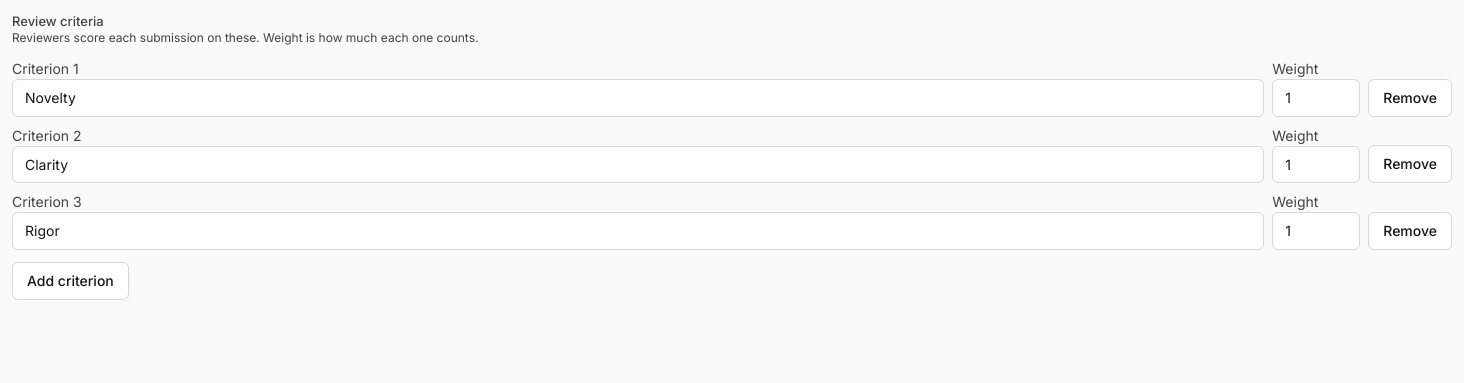
K-7 — CfpRubricEditor › adds and removes rows; the last row cannot be removed
The width and height of the screenshot is (1464, 383).
Click the button "Add criterion". click: [70, 281]
box: [12,262,129,300]
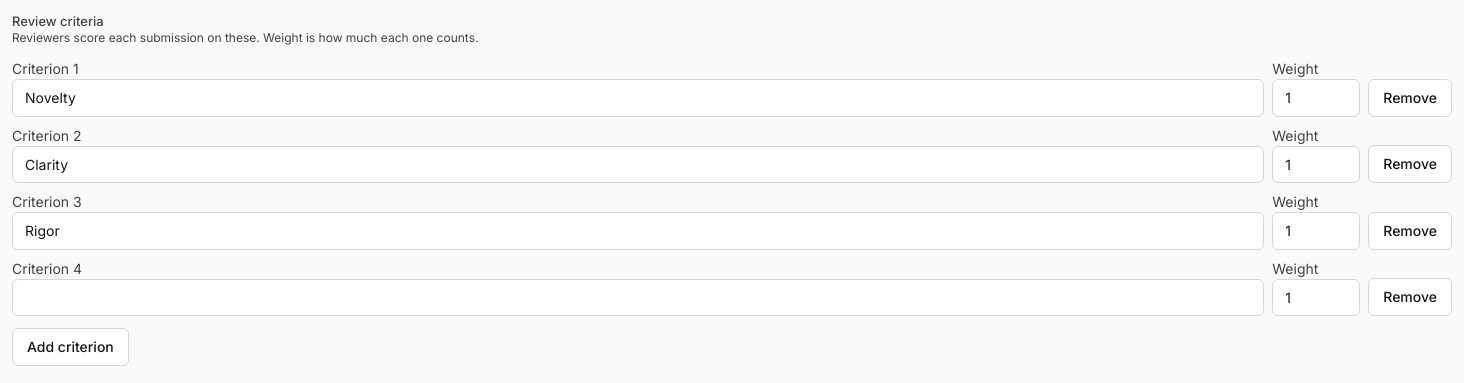
Now the number of list items with class "cfp-rubric-row" is 4, box [12,58,1452,117]; [12,125,1452,183]; [12,191,1452,250]; [12,258,1452,316]
Click the 4th button "Remove". click: [1410, 297]
box: [1368,278,1452,316]
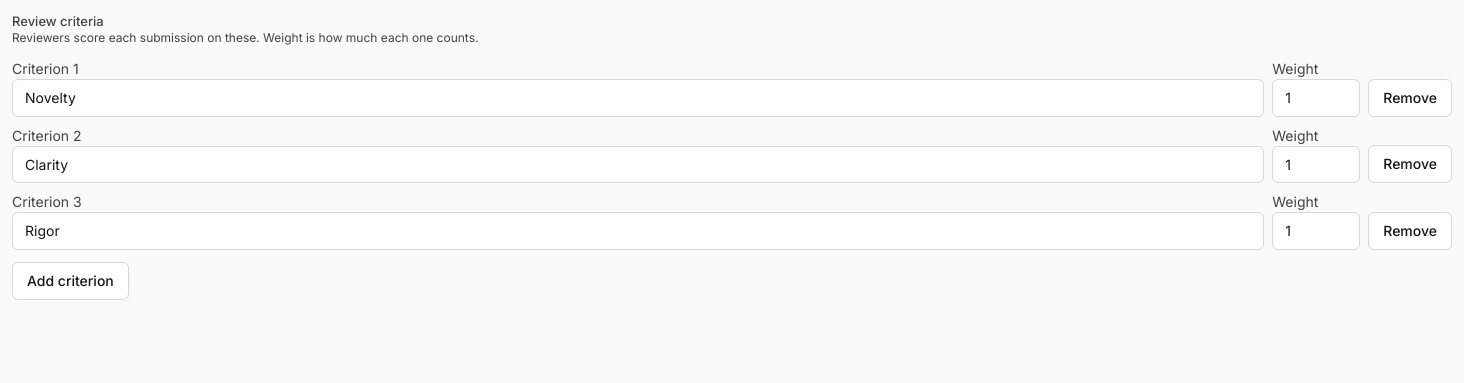
Now the number of list items with class "cfp-rubric-row" is 3, box [12,58,1452,117]; [12,125,1452,183]; [12,191,1452,250]
Click the 3rd button "Remove". click: [1410, 231]
box: [1368,212,1452,250]
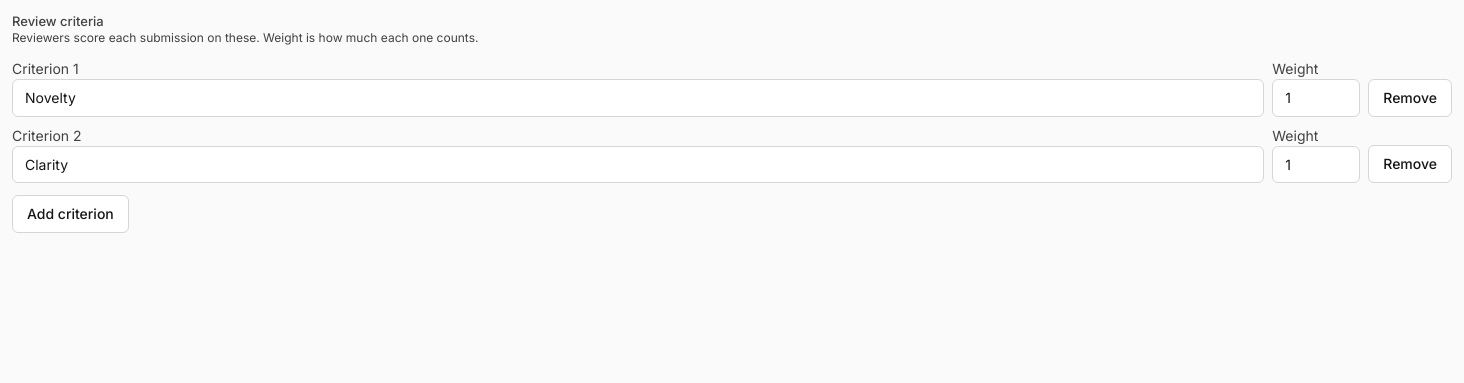
Click the 2nd button "Remove". click: [1410, 164]
box: [1368,145,1452,183]
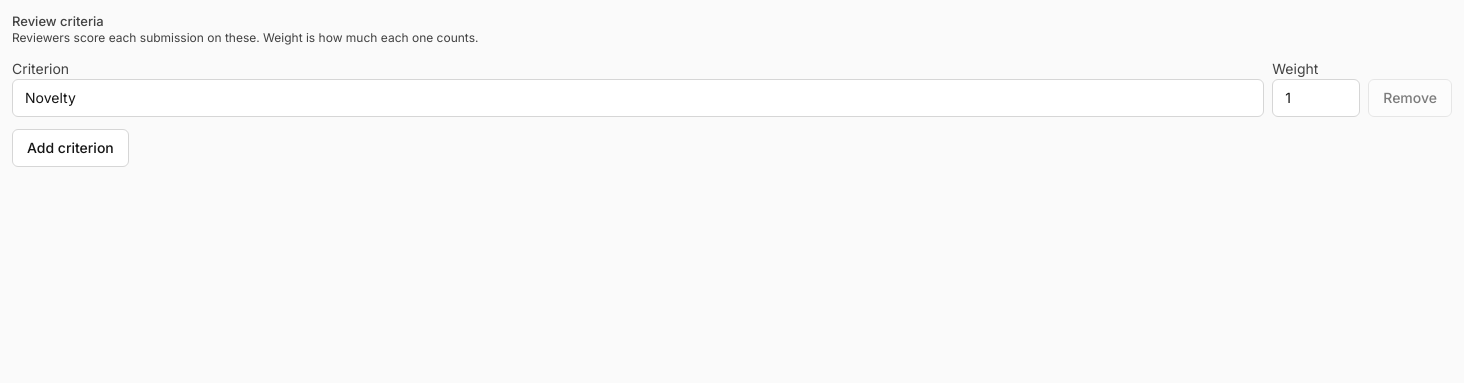
Now the number of list items with class "cfp-rubric-row" is 1, box [12,58,1452,117]
Now the button "Remove" is disabled, box [1368,79,1452,117]
